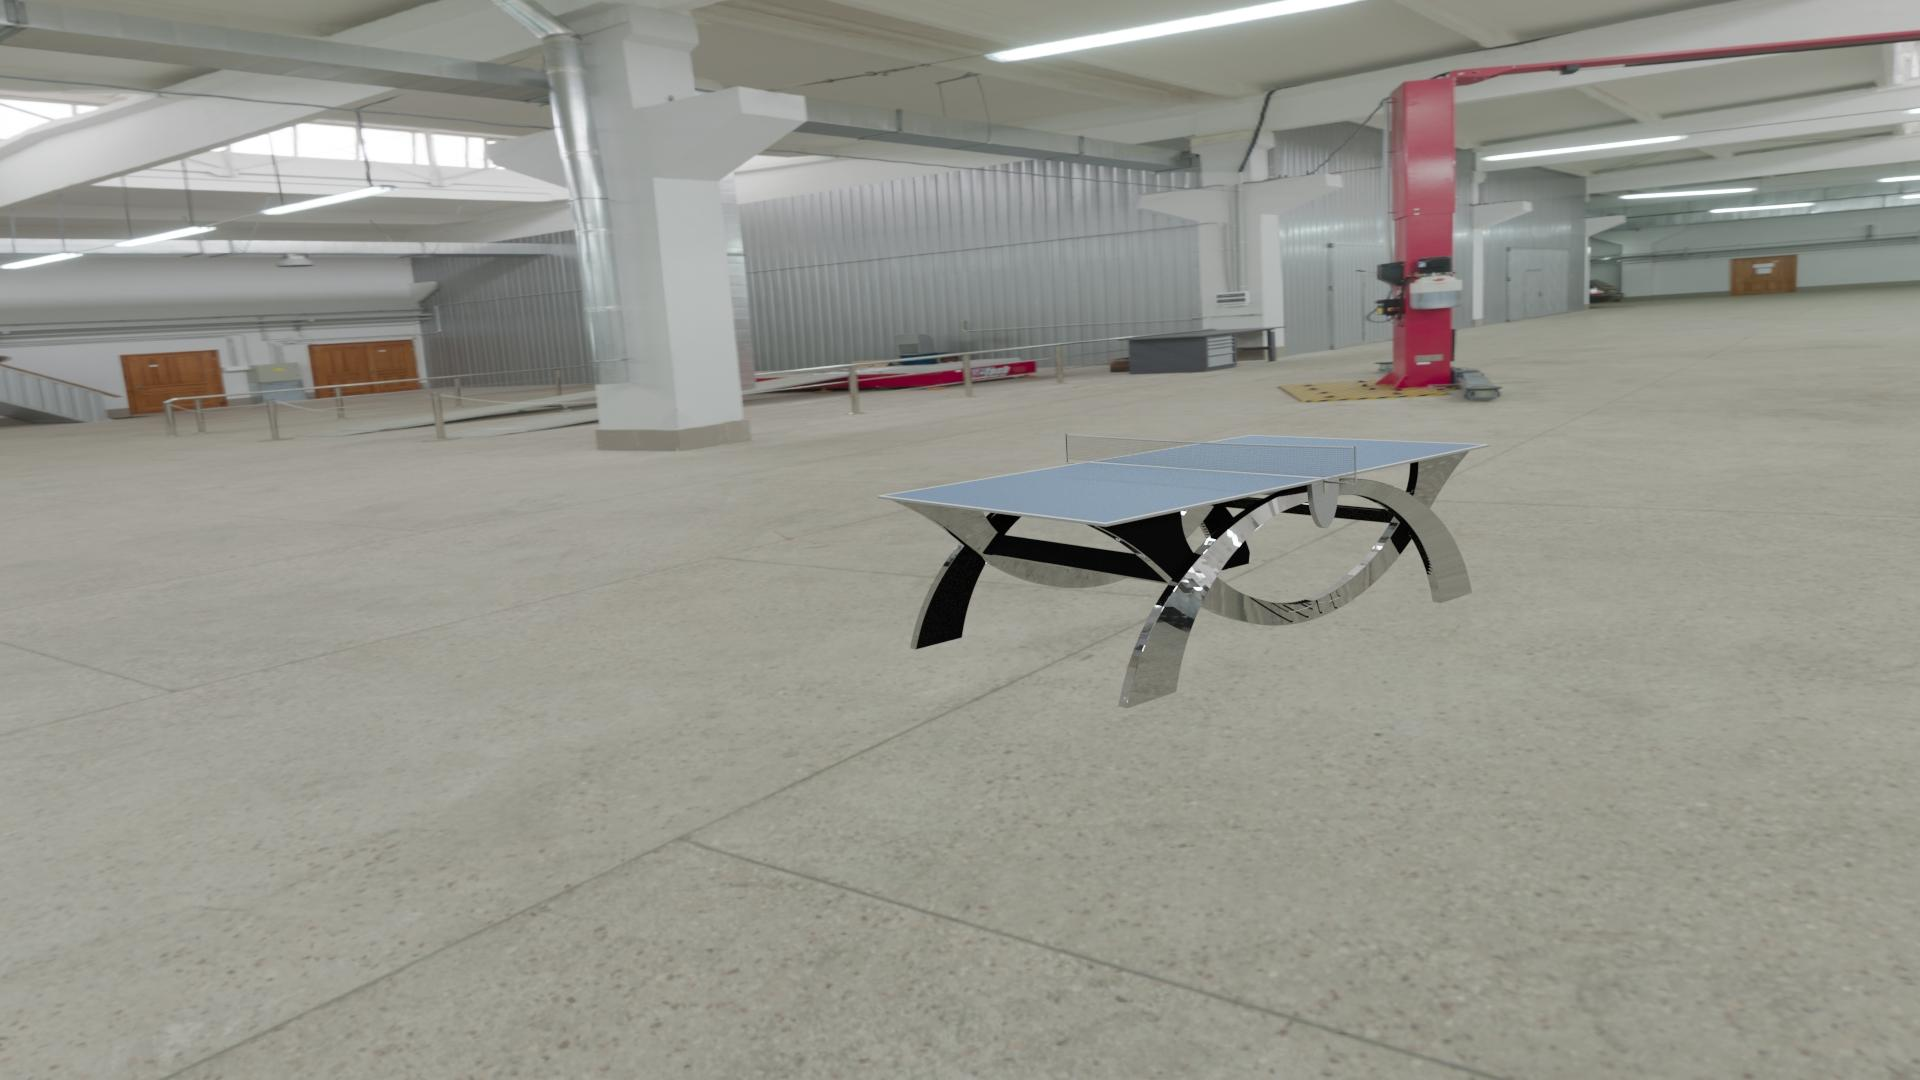table: (884, 435, 1484, 522)
